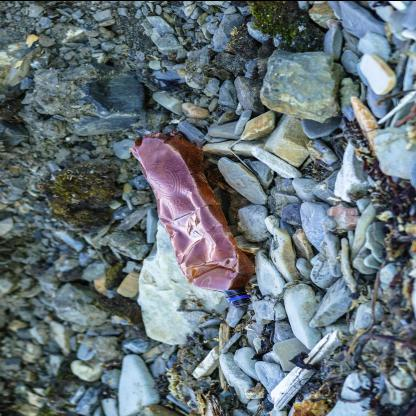plastik: (127, 131, 256, 307)
